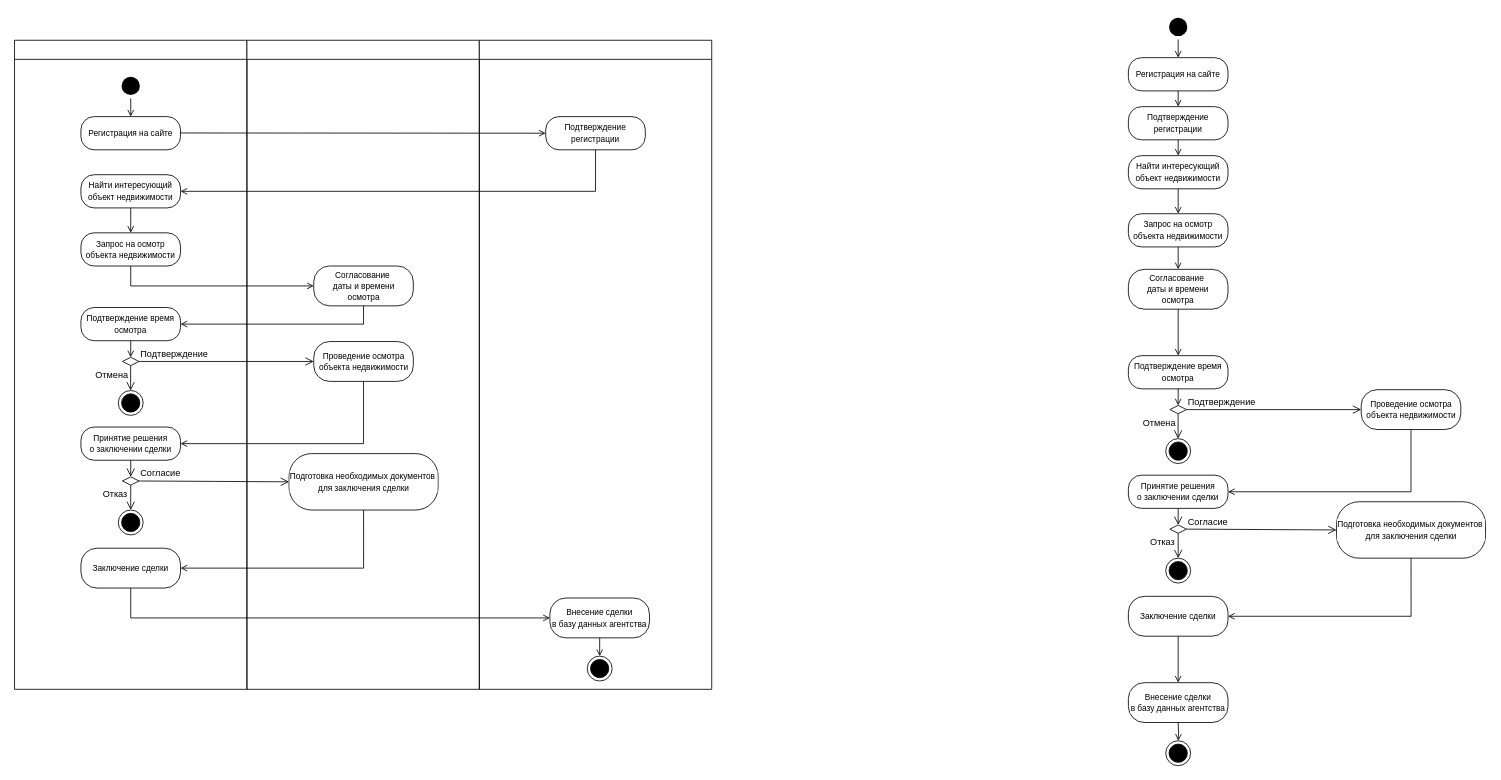
This 1501x780 diagram has some shape labels left out. Each missing label, with the box of its shape:
Агент недвижимости: (246, 39, 479, 689)
Клиент: (14, 39, 247, 689)
Система агентства: (478, 39, 712, 689)
